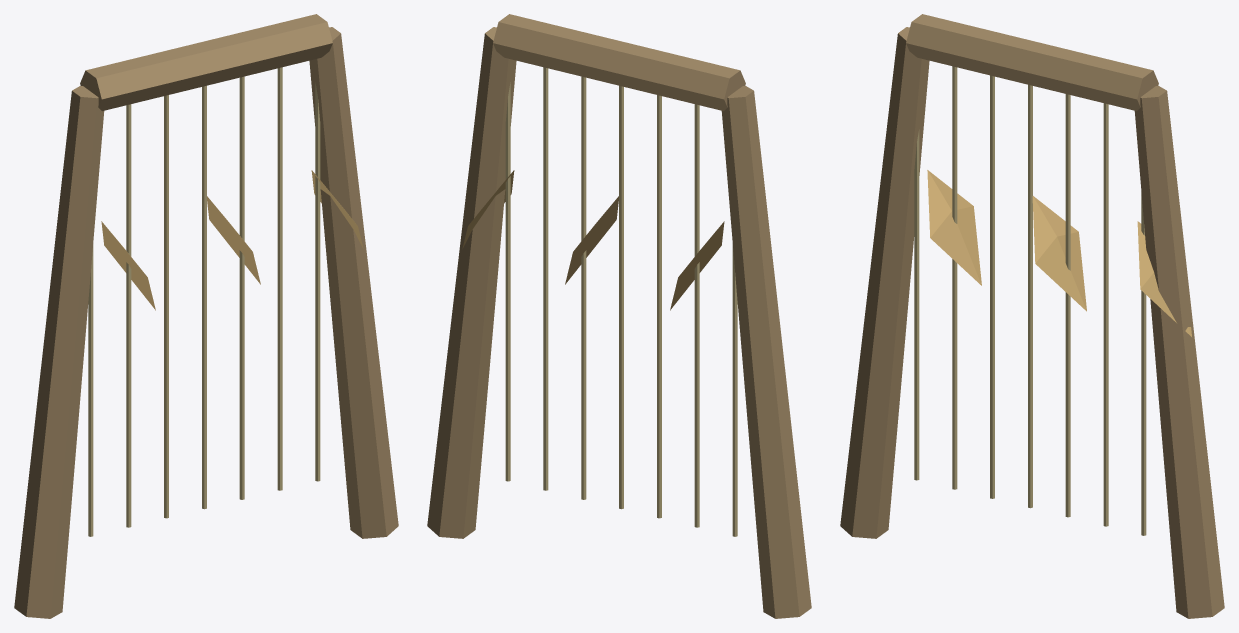
File: map-exclusive-v3__meadow_03.glb
The picture shows the model from 3 angles, left to right: view 1: azimuth 30°, elevation 25°; view 2: azimuth 150°, elevation 25°; view 3: azimuth 330°, elevation 25°; orthographic projection.
Visible parts, largest first — view 1: meadow_03; view 2: meadow_03; view 3: meadow_03.
Part boxes in pixels (left/top/right/bottom): meadow_03: left=14, top=14, right=398, bottom=618; meadow_03: left=427, top=14, right=811, bottom=618; meadow_03: left=840, top=14, right=1224, bottom=618.
Size of the model in its own units: 1.77 by 2.39 by 0.36.
